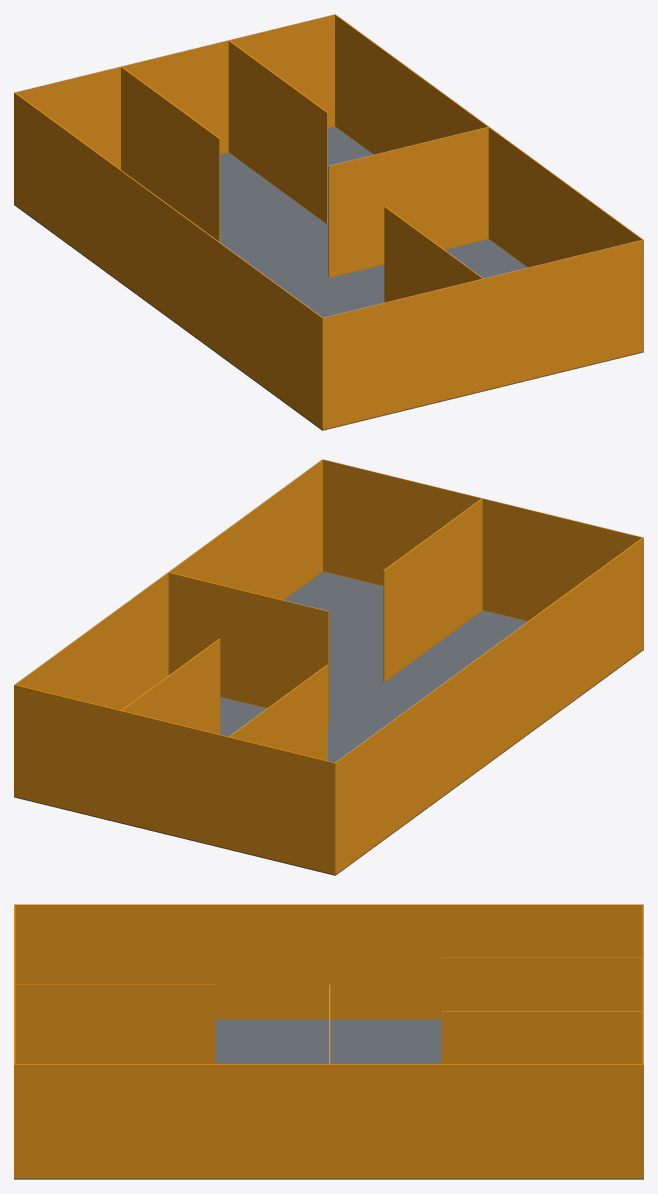
Rendered from testing_room.dae.
The picture shows the model from 3 angles, top to bottom: view 1: azimuth 30°, elevation 25°; view 2: azimuth 150°, elevation 25°; view 3: azimuth 270°, elevation 25°; orthographic projection. The views are drawn at different scales.
Parts seen in each view (by area): view 1: node1, node0; view 2: node1, node0; view 3: node1, node0.
Part boxes in pixels (box(x1,y1,x2,y2)): node1: box(14, 14, 643, 429); node0: box(14, 126, 643, 430); node1: box(14, 459, 643, 874); node0: box(14, 571, 643, 875); node1: box(14, 904, 643, 1178); node0: box(14, 1018, 643, 1179).
Bounding box in the file's own units: 3.02 × 5.02 × 1.01.
